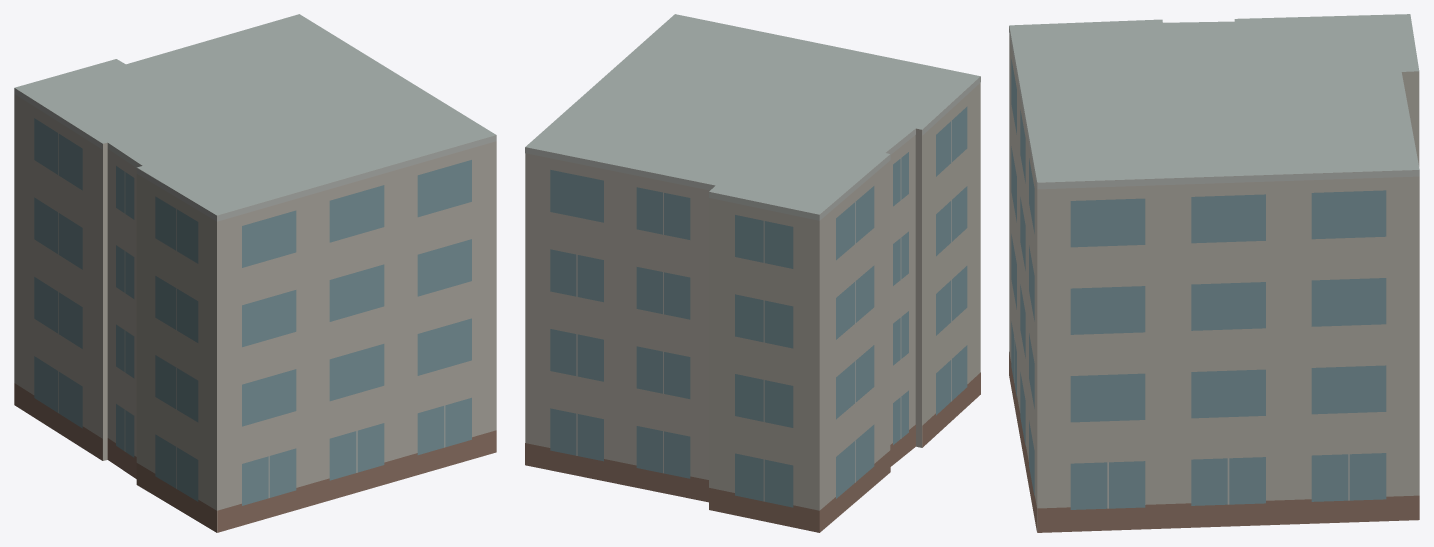
The model's file is survey-upis-32738173.glb.
3 renders of one model, left to right at view 1: azimuth 30°, elevation 25°; view 2: azimuth 150°, elevation 25°; view 3: azimuth 270°, elevation 25°, orthographic. The views are drawn at different scales.
Visible parts, largest first — view 1: survey-upis-32738173.tmp; view 2: survey-upis-32738173.tmp; view 3: survey-upis-32738173.tmp.
Boxes of the visible parts, x1=… form: survey-upis-32738173.tmp: x1=14, y1=14, x2=496, y2=532; survey-upis-32738173.tmp: x1=525, y1=14, x2=980, y2=532; survey-upis-32738173.tmp: x1=1009, y1=14, x2=1419, y2=532.
Bounding box in the file's own units: 13.13 × 12.7 × 13.51.
